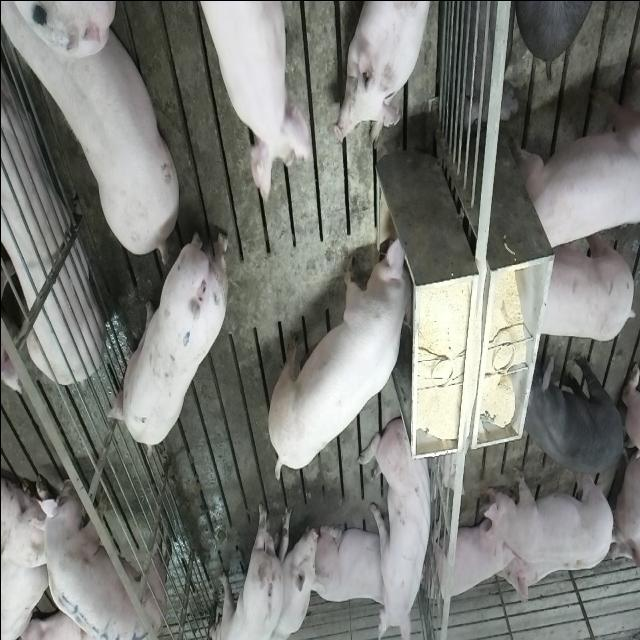Feeding: (270, 230, 420, 477)
Sitting: (362, 410, 437, 636), (207, 496, 319, 638), (263, 496, 318, 638)
Standing: (6, 6, 183, 267), (105, 220, 226, 448), (192, 0, 320, 199), (518, 62, 638, 255), (29, 485, 165, 640), (482, 458, 618, 562), (517, 351, 624, 477), (530, 226, 634, 342)
Sternal_lying: (0, 54, 100, 391), (336, 0, 434, 142), (429, 508, 511, 604), (310, 518, 390, 606)
